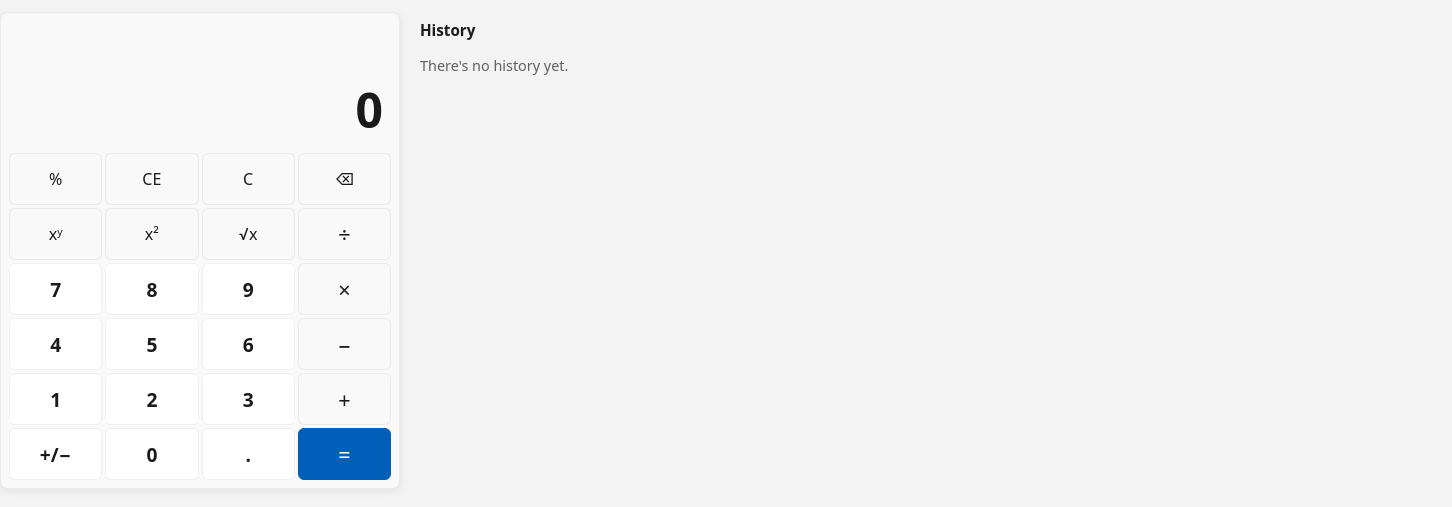
Test case: Calculator › evaluates left to right like the Windows calculator
The width and height of the screenshot is (1452, 507).
Click the button "2".
click(152, 399)  # box top-left (105, 373), bottom-right (199, 425)
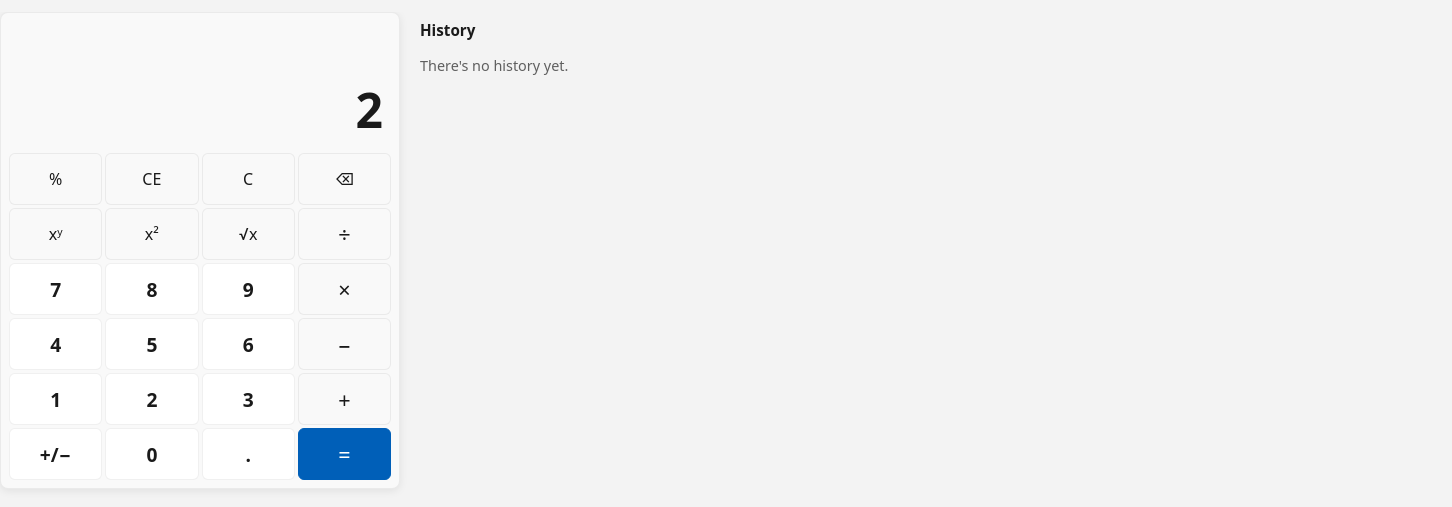
Click the button named "Add".
click(344, 399)  # box top-left (298, 373), bottom-right (391, 425)
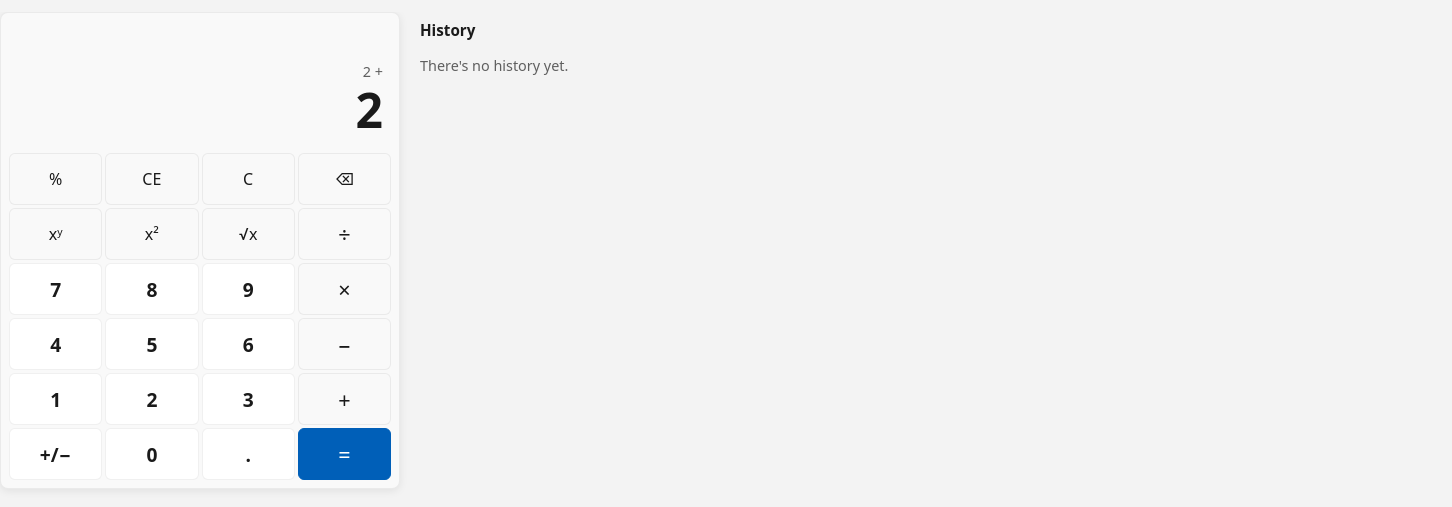
Click the button "3".
click(248, 399)  # box top-left (202, 373), bottom-right (295, 425)
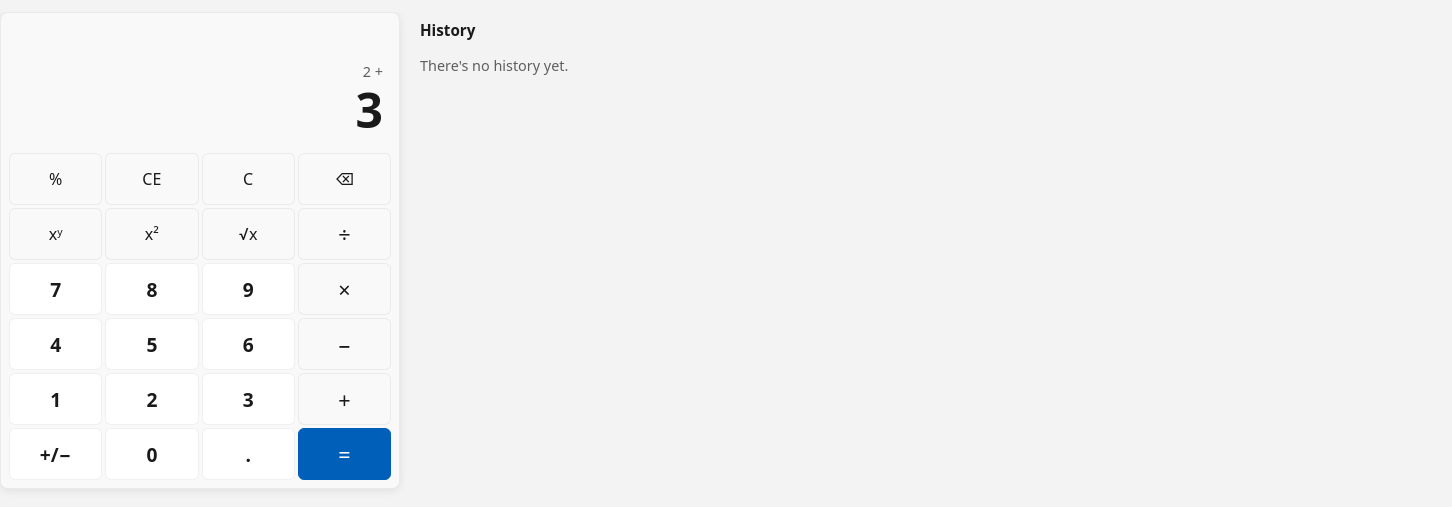
Click the button named "Multiply".
click(344, 289)  # box top-left (298, 263), bottom-right (391, 315)
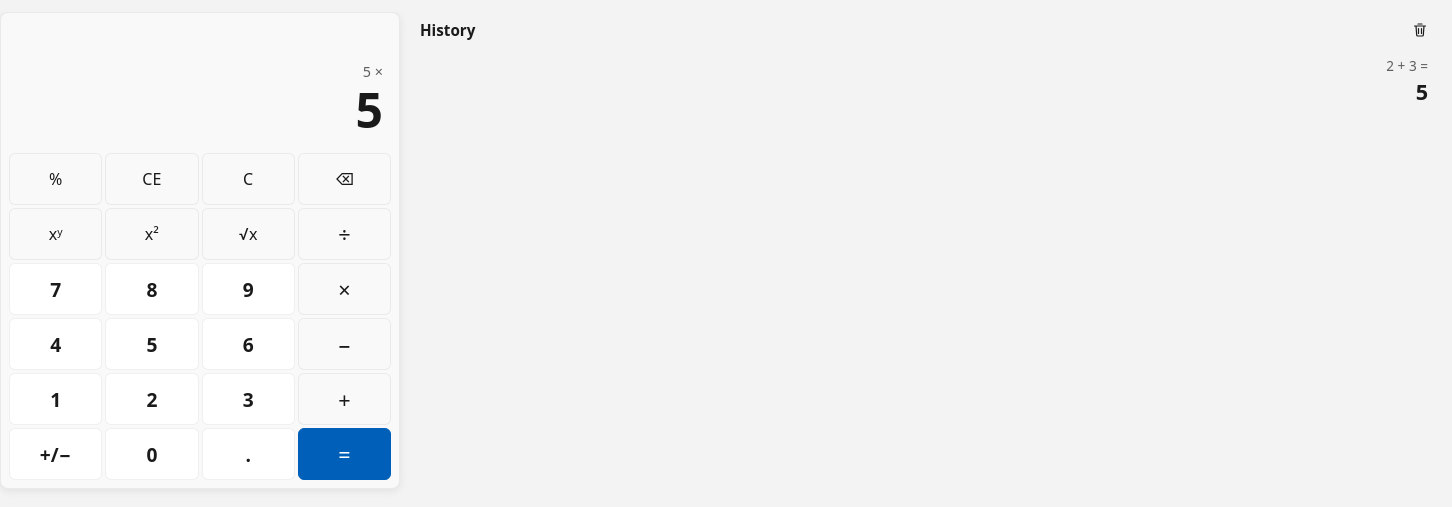
Click the button "4".
click(56, 344)  # box top-left (9, 318), bottom-right (102, 370)
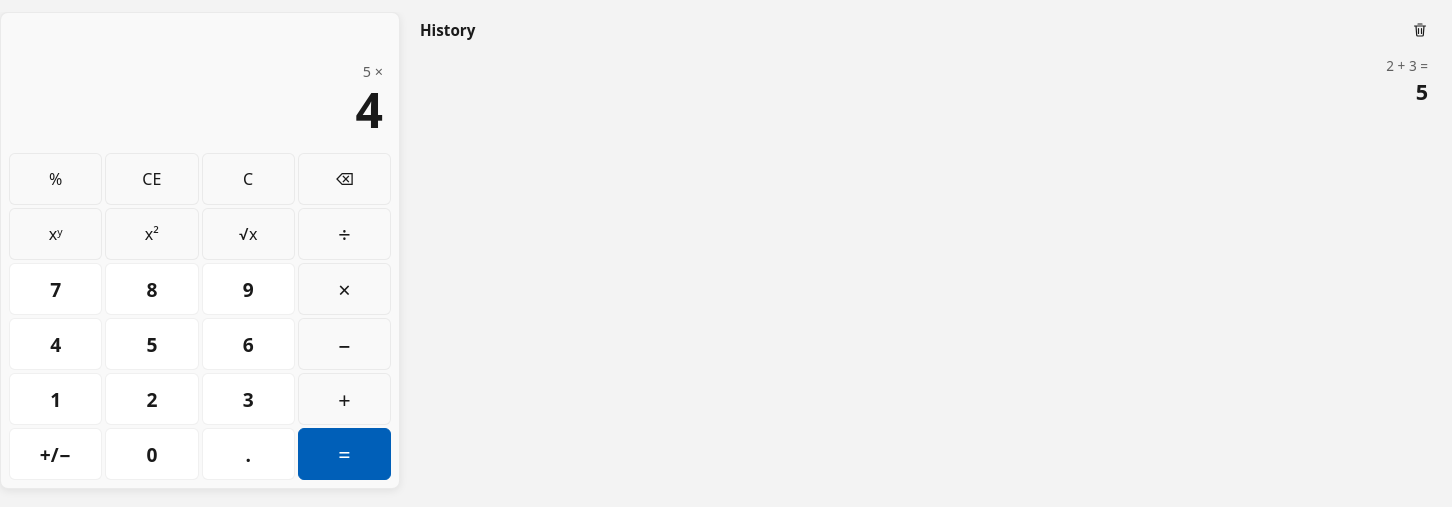
Click the button named "Equals".
click(344, 454)  # box top-left (298, 428), bottom-right (391, 480)
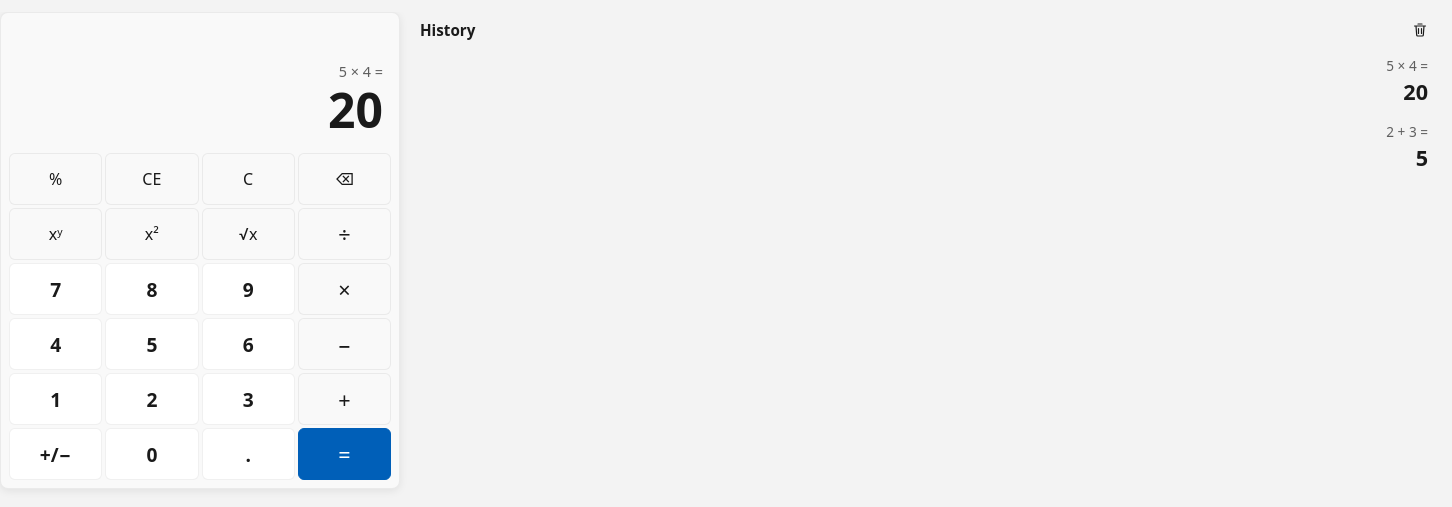
Expected: the text named "Display" reads "20", top-left (328, 77), bottom-right (383, 142)
